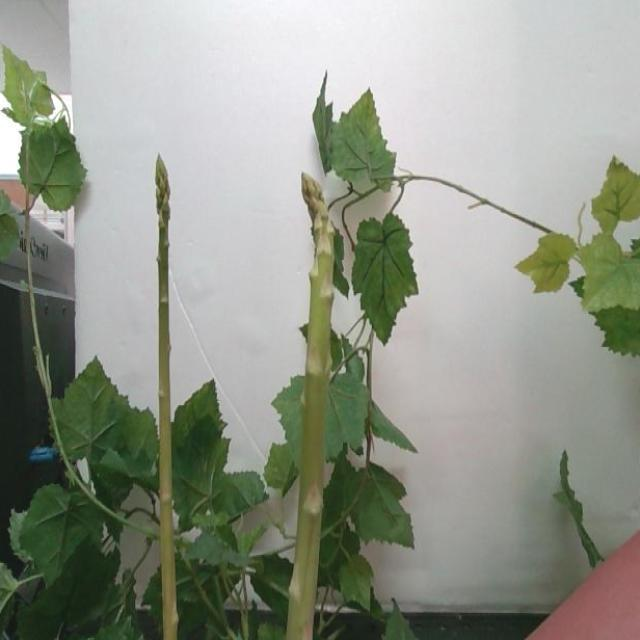aspargus: (285, 176, 336, 640), (155, 158, 178, 640)
